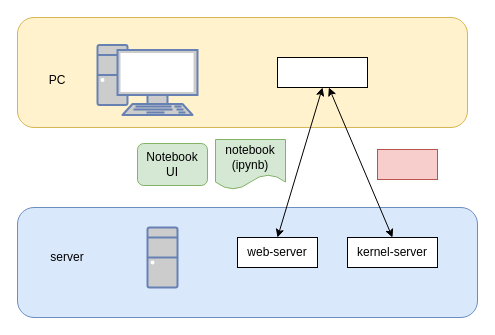
This 495x335 diagram has some shape labels left out. The box of each missing label's shape, as (x1, y1, x2, y2) in pixels:
browser: (276, 56, 368, 88)
cell-code / resultaat: (376, 148, 438, 180)
